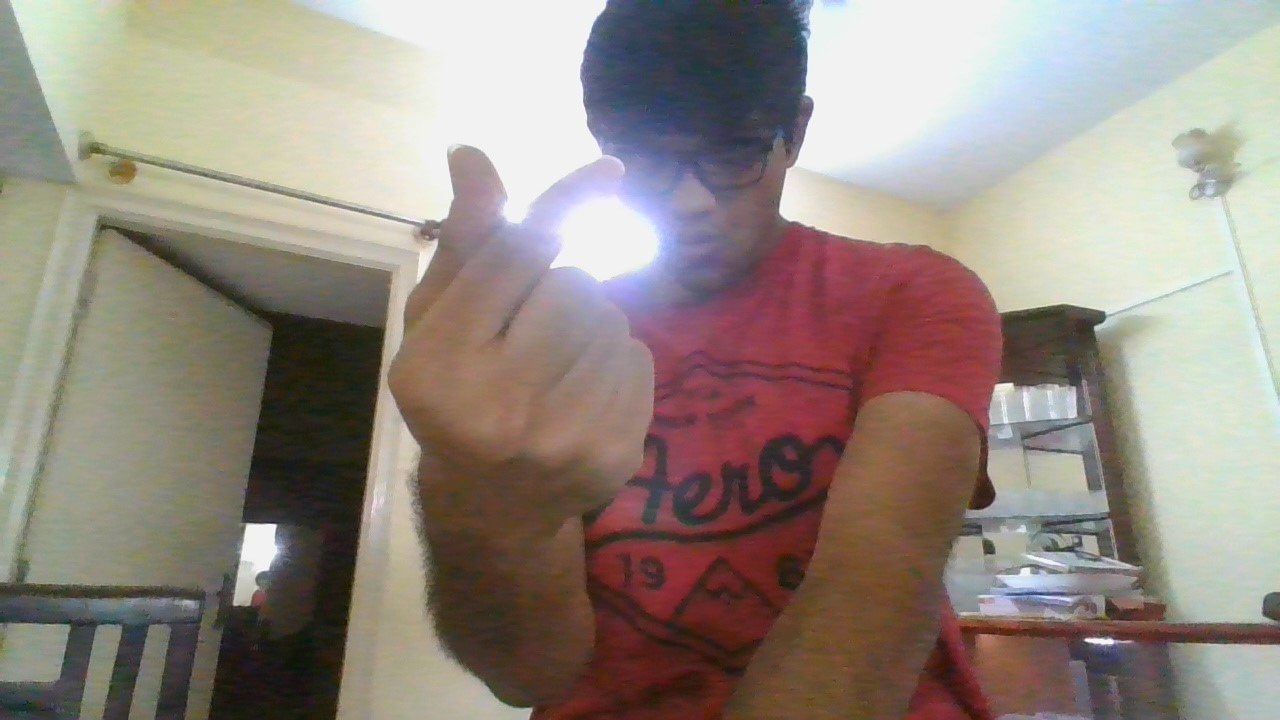eof: (385, 142, 659, 510)
